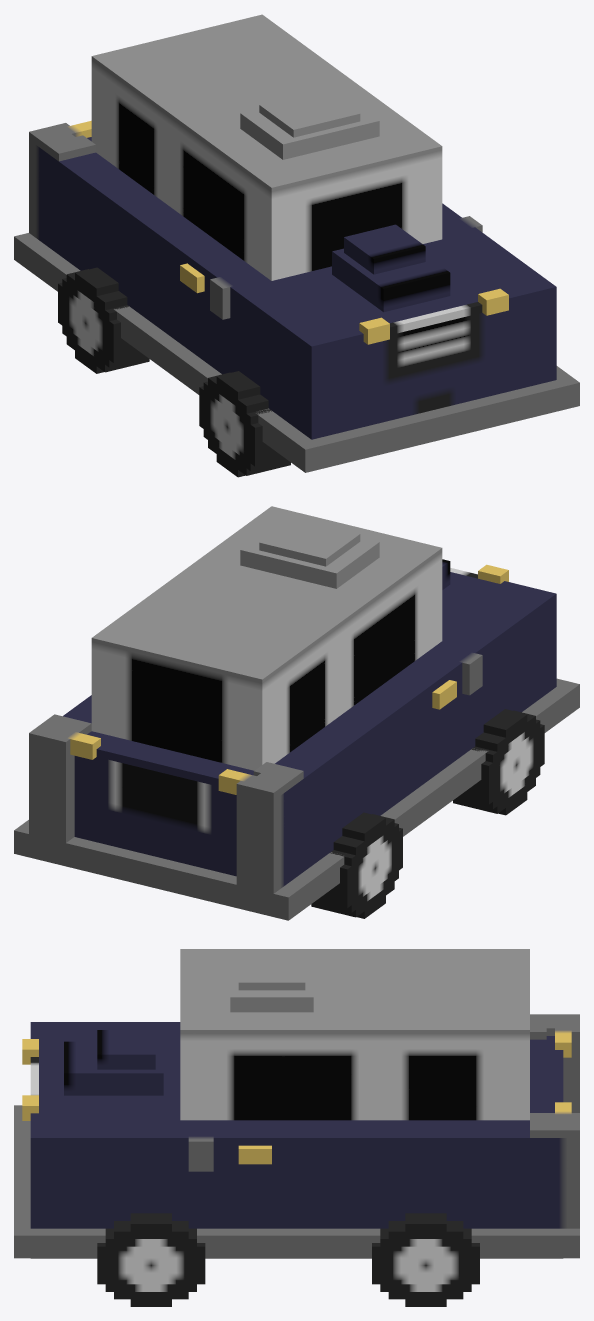
Rendered from car_modern_5.fbx.
3 views of the same model, one above another, from view 1: azimuth 30°, elevation 25°; view 2: azimuth 150°, elevation 25°; view 3: azimuth 270°, elevation 25° (orthographic). The views are drawn at different scales.
Visible parts, largest first — view 1: body, back_right_wheel, back_left_wheel; view 2: body, back_right_wheel, back_left_wheel; view 3: body, front_right_wheel, front_left_wheel.
Part boxes in pixels (box(x1,y1,x2,y2)): body: box(14, 14, 579, 472); back_right_wheel: box(199, 371, 290, 477); back_left_wheel: box(58, 267, 149, 373); body: box(14, 506, 579, 920); back_right_wheel: box(453, 709, 544, 815); back_left_wheel: box(311, 812, 402, 918); body: box(14, 949, 579, 1258); front_right_wheel: box(97, 1213, 205, 1306); front_left_wheel: box(372, 1213, 479, 1306).
Size of the model in its own units: 39 by 36 by 68.
Materials: 1 (1 with a texture image).
